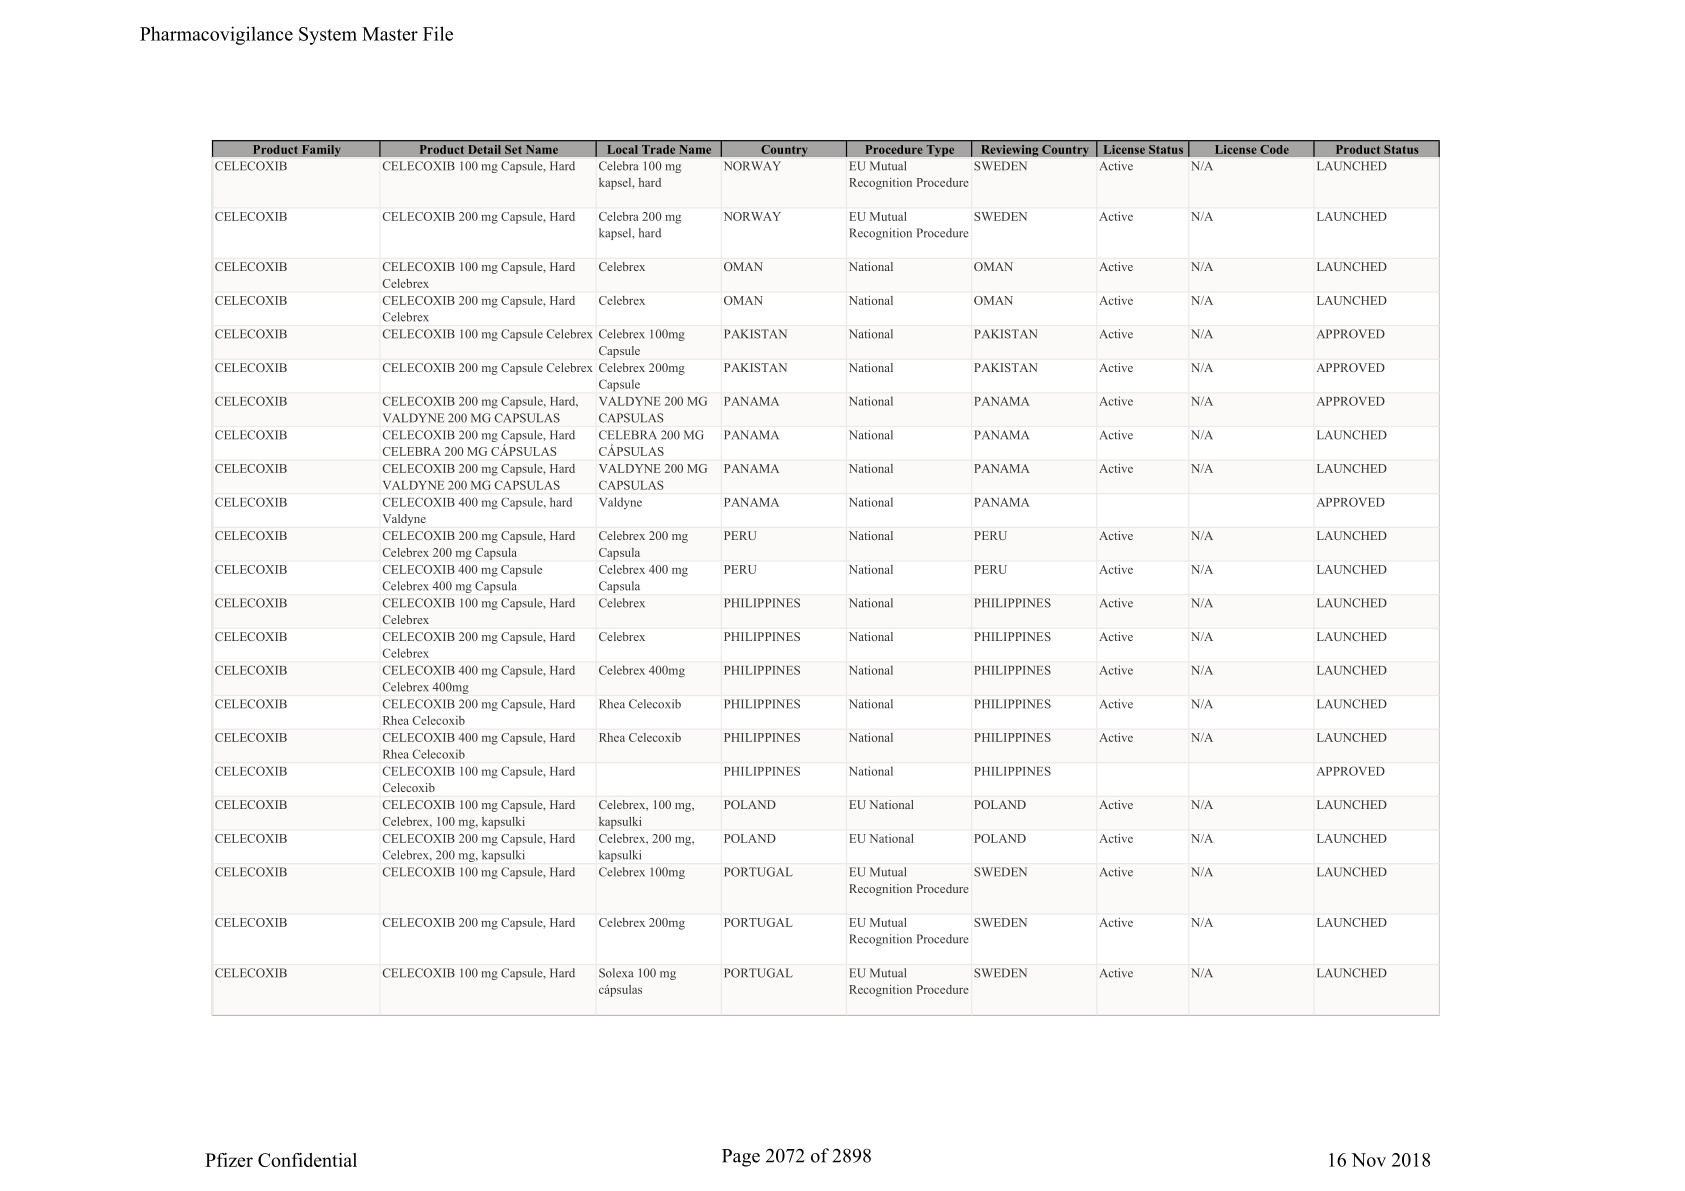full_lined: (211, 139, 1441, 1017)
